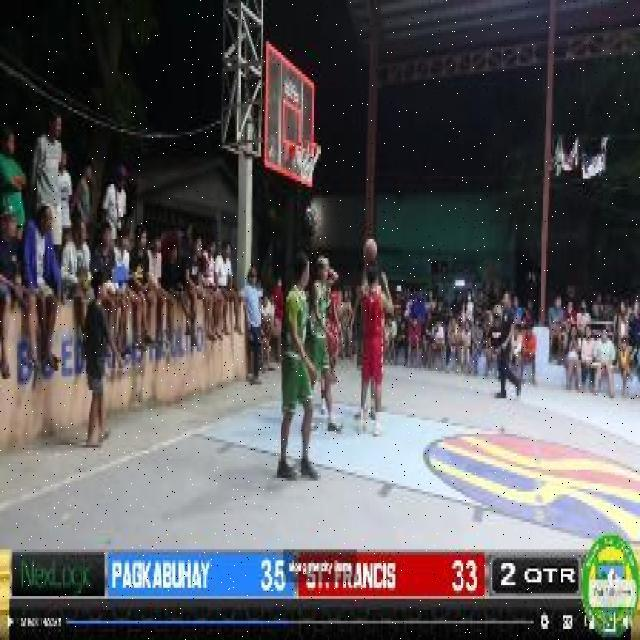ball: (362, 238, 376, 262)
